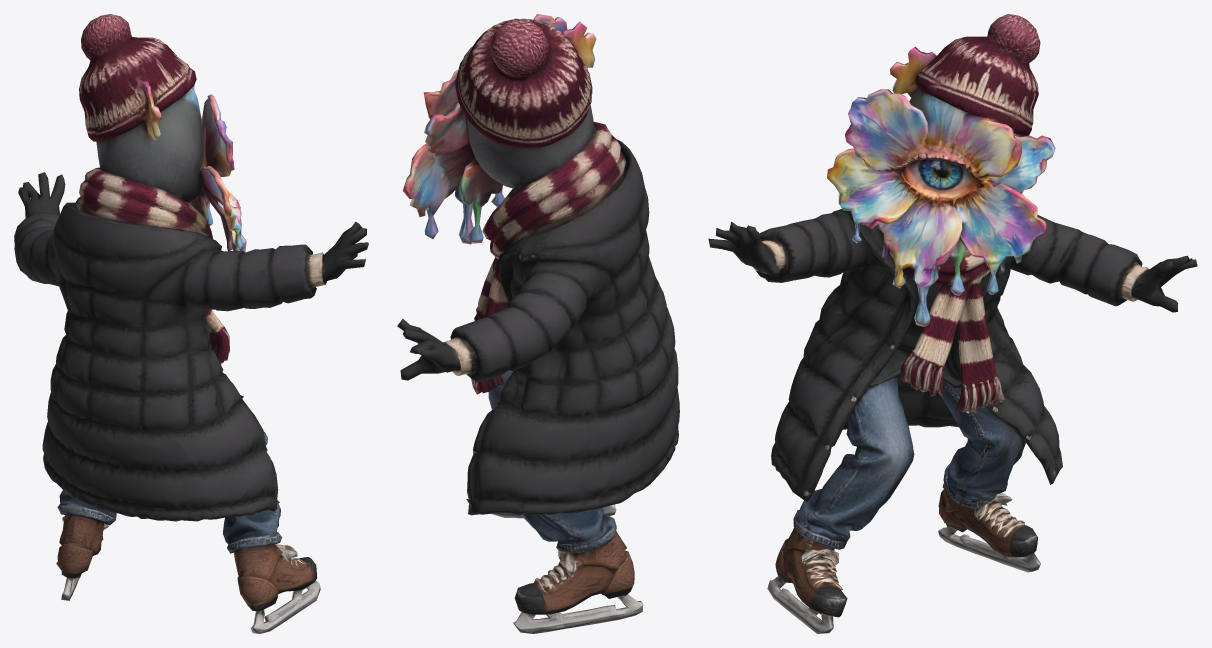
The model's file is lt_wobbler.glb.
3 renders of one model, left to right at view 1: azimuth 30°, elevation 25°; view 2: azimuth 150°, elevation 25°; view 3: azimuth 270°, elevation 25°, orthographic. The views are drawn at different scales.
Parts seen in each view (by area): view 1: tripo_node_ac9053c0-118d-406c-855f-e26bf3b7b56d; view 2: tripo_node_ac9053c0-118d-406c-855f-e26bf3b7b56d; view 3: tripo_node_ac9053c0-118d-406c-855f-e26bf3b7b56d.
Boxes of the visible parts, x1,y1,x2,y2 form: tripo_node_ac9053c0-118d-406c-855f-e26bf3b7b56d: (14, 14, 368, 633); tripo_node_ac9053c0-118d-406c-855f-e26bf3b7b56d: (397, 14, 679, 633); tripo_node_ac9053c0-118d-406c-855f-e26bf3b7b56d: (708, 14, 1197, 633).
Bounding box in the file's own units: 0.4185 × 1 × 0.7878.
1 material, 1 textured.
